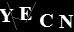C: (38, 13, 54, 28)
E: (18, 6, 33, 21)
N: (58, 14, 74, 29)
Y: (1, 8, 14, 23)
